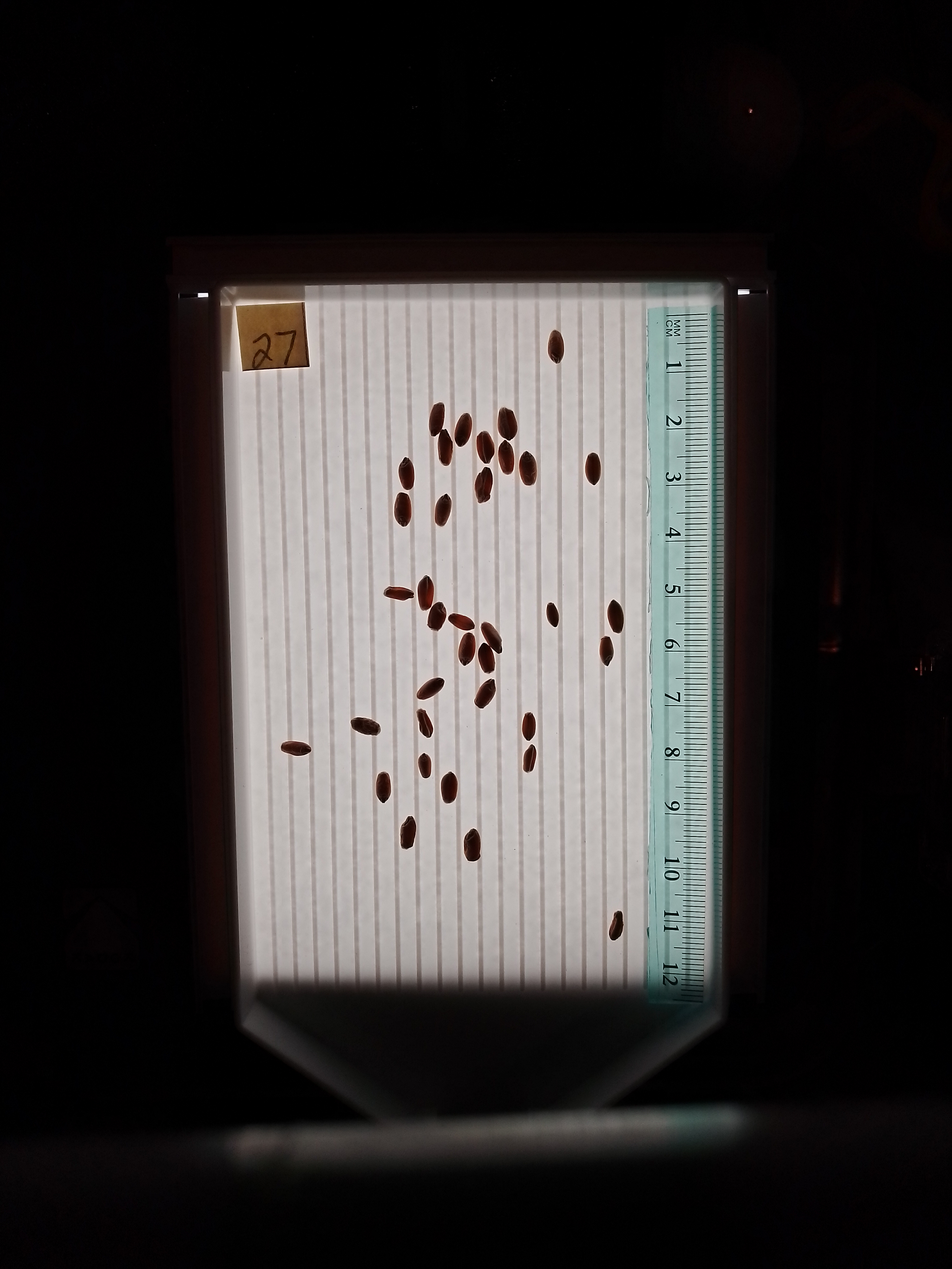seed mask: (498, 407, 518, 440), (481, 623, 502, 653), (475, 469, 493, 503), (418, 677, 444, 700), (454, 413, 472, 446), (394, 493, 412, 526), (607, 600, 624, 634), (463, 830, 481, 862), (519, 452, 536, 485), (399, 817, 416, 850), (475, 681, 495, 709), (477, 432, 495, 463), (434, 495, 452, 526), (351, 717, 380, 736), (418, 576, 434, 610), (498, 443, 514, 475), (429, 404, 445, 436), (399, 458, 415, 490), (548, 331, 564, 363), (441, 773, 458, 803), (428, 603, 446, 631), (459, 634, 475, 665), (585, 454, 601, 485), (438, 432, 453, 465), (375, 773, 391, 803), (599, 636, 614, 666), (281, 741, 311, 756), (478, 645, 494, 673), (417, 709, 433, 737), (609, 912, 624, 941), (449, 614, 474, 631), (384, 586, 413, 600), (522, 713, 535, 740), (523, 746, 536, 772), (418, 754, 431, 778), (546, 604, 559, 627)
